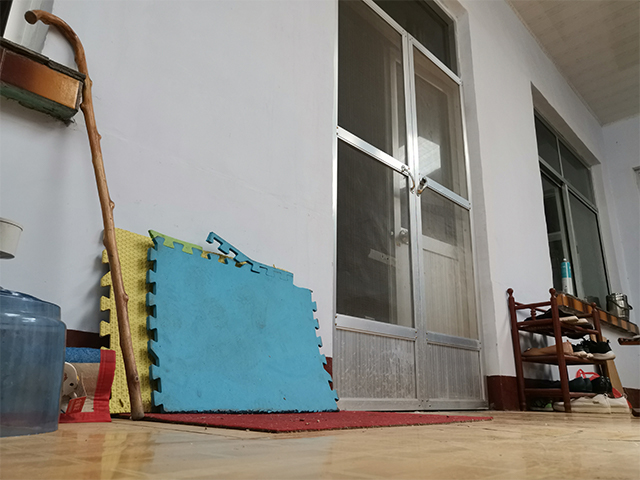carpet: (116, 408, 494, 434)
